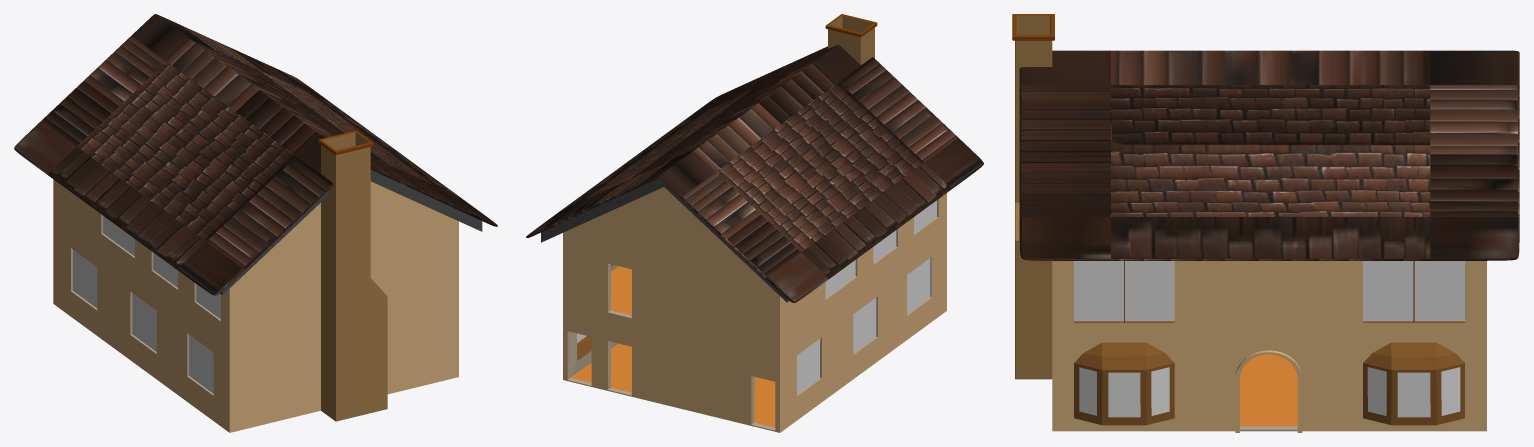
Rendered from home_main.fbx.
3 renders of one model, left to right at view 1: azimuth 30°, elevation 25°; view 2: azimuth 150°, elevation 25°; view 3: azimuth 270°, elevation 25°, orthographic. The views are drawn at different scales.
Parts seen in each view (by area): view 1: MainBuildingRoofUpper, MainBuilding, Chimney, MainBuildingRoofLower; view 2: MainBuilding, MainBuildingRoofUpper, MainBuildingRoofLower, Chimney; view 3: MainBuildingRoofUpper, MainBuilding, Chimney.
Boxes of the visible parts, x1,y1,x2,y2 form: MainBuildingRoofUpper: (14,14,497,295); MainBuilding: (53,179,458,432); Chimney: (318,130,387,421); MainBuildingRoofLower: (220,160,482,294); MainBuilding: (563,187,946,432); MainBuildingRoofUpper: (526,44,983,302); MainBuildingRoofLower: (541,86,789,302); Chimney: (825,14,877,64); MainBuildingRoofUpper: (1019,50,1519,260); MainBuilding: (1052,260,1486,432); Chimney: (1012,14,1054,379).
Bounding box in the file's own units: 1122 × 1018 × 1402.
